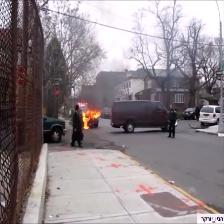fire: (81, 107, 102, 135)
